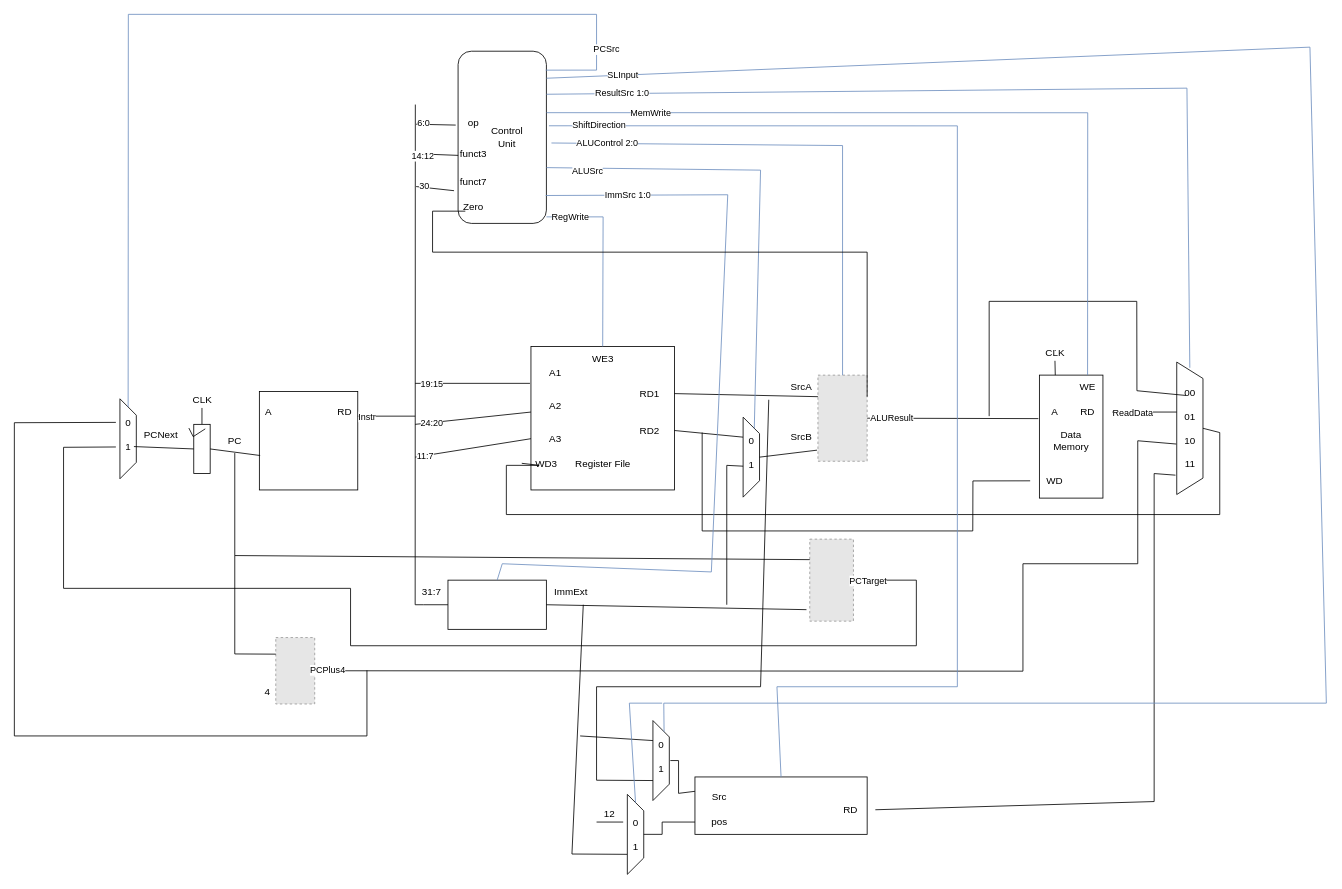
Some shapes in this 1342 by 889 pixel diagram are drawn without their labels. Grey dashed boxes stand in for pictures. The shapes that lost their labels are listed below. From the top down, each one's box as (x1, y1, x2, y2) in pixels, then its label:
(259, 391, 358, 490): Instruction Memory
(447, 579, 546, 629): Extend
(694, 776, 867, 834): shift logical
